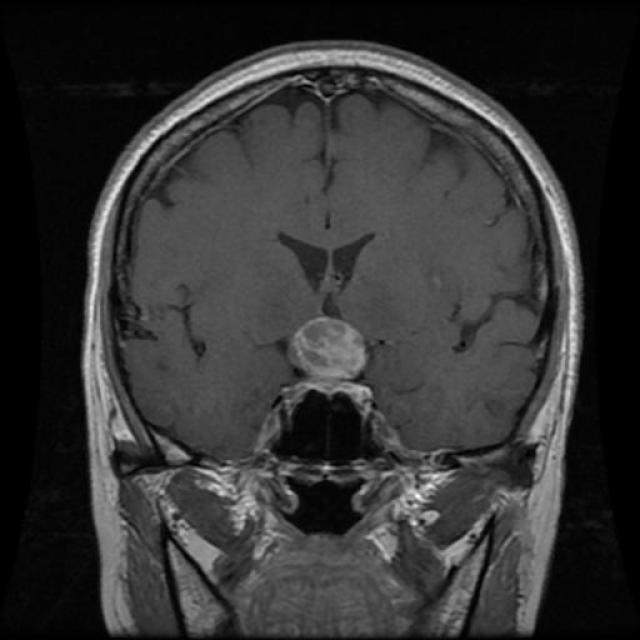pituitary: (276, 308, 372, 386)
